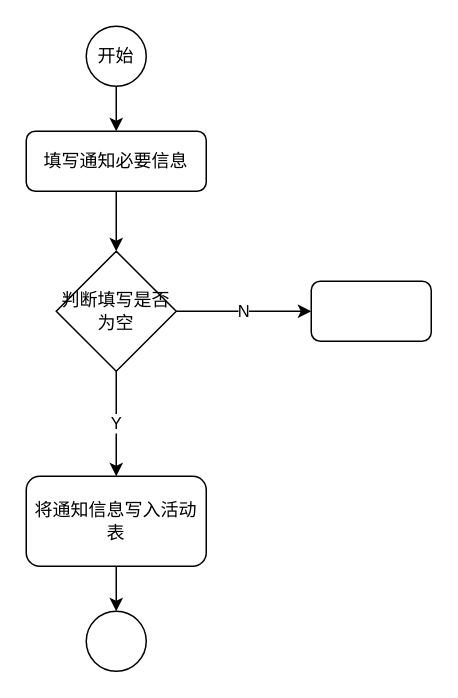
Some shapes in this 458 by 698 pixel diagram are drawn without their labels. The box of each missing label's shape, as (x1, y1, x2, y2) in pixels:
反馈提示信息: (310, 280, 431, 341)
结束: (85, 610, 146, 671)
